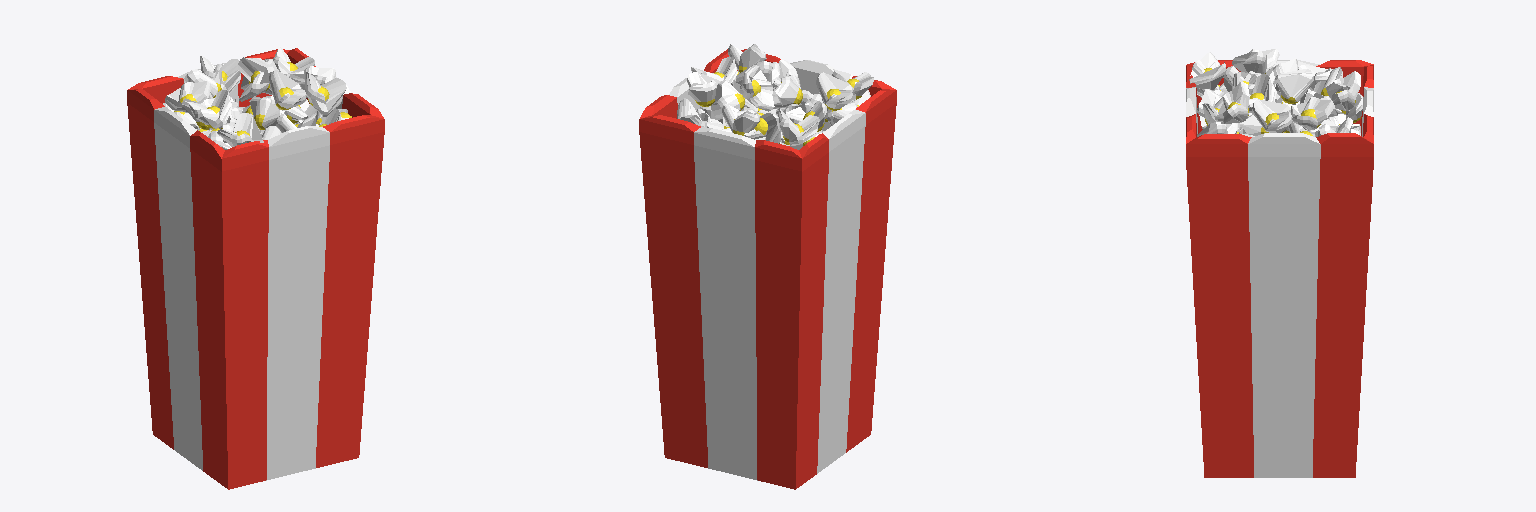
The picture shows the model from 3 angles: view 1: azimuth 30°, elevation 25°; view 2: azimuth 150°, elevation 25°; view 3: azimuth 270°, elevation 25°; orthographic projection.
Visible parts, largest first — view 1: group[number redacted], group[number redacted], group[number redacted], group[number redacted], group[number redacted], group[number redacted], group[number redacted], group[number redacted], group[number redacted], group[number redacted], group[number redacted]; view 2: group[number redacted], group[number redacted], group[number redacted], group[number redacted], group[number redacted], group[number redacted], group[number redacted], group[number redacted], group[number redacted], group[number redacted], group[number redacted], group[number redacted]; view 3: group[number redacted], group[number redacted], group[number redacted], group[number redacted], group[number redacted], group[number redacted], group[number redacted], group[number redacted], group[number redacted].
Boxes of the visible parts, x1=… form: group[number redacted]: x1=127, y1=48, x2=384, y2=489; group[number redacted]: x1=305, y1=72, x2=346, y2=116; group[number redacted]: x1=238, y1=57, x2=273, y2=101; group[number redacted]: x1=269, y1=70, x2=306, y2=109; group[number redacted]: x1=187, y1=90, x2=231, y2=128; group[number redacted]: x1=217, y1=113, x2=263, y2=146; group[number redacted]: x1=165, y1=81, x2=211, y2=112; group[number redacted]: x1=249, y1=96, x2=285, y2=129; group[number redacted]: x1=200, y1=56, x2=240, y2=93; group[number redacted]: x1=273, y1=46, x2=314, y2=76; group[number redacted]: x1=289, y1=66, x2=335, y2=97; group[number redacted]: x1=639, y1=49, x2=896, y2=489; group[number redacted]: x1=740, y1=65, x2=774, y2=111; group[number redacted]: x1=816, y1=72, x2=853, y2=110; group[number redacted]: x1=777, y1=108, x2=819, y2=145; group[number redacted]: x1=687, y1=72, x2=720, y2=106; group[number redacted]: x1=711, y1=80, x2=744, y2=126; group[number redacted]: x1=772, y1=75, x2=802, y2=108; group[number redacted]: x1=722, y1=104, x2=759, y2=135; group[number redacted]: x1=737, y1=110, x2=779, y2=141; group[number redacted]: x1=728, y1=44, x2=766, y2=72; group[number redacted]: x1=832, y1=69, x2=873, y2=99; group[number redacted]: x1=786, y1=101, x2=826, y2=131; group[number redacted]: x1=1186, y1=60, x2=1373, y2=477; group[number redacted]: x1=1252, y1=99, x2=1292, y2=132; group[number redacted]: x1=1214, y1=82, x2=1249, y2=123; group[number redacted]: x1=1275, y1=69, x2=1313, y2=103; group[number redacted]: x1=1291, y1=97, x2=1334, y2=129; group[number redacted]: x1=1189, y1=52, x2=1226, y2=89; group[number redacted]: x1=1232, y1=49, x2=1279, y2=73; group[number redacted]: x1=1329, y1=71, x2=1360, y2=110; group[number redacted]: x1=1248, y1=74, x2=1276, y2=113.
Bounding box in the file's own units: 0.67 × 1.49 × 0.67.